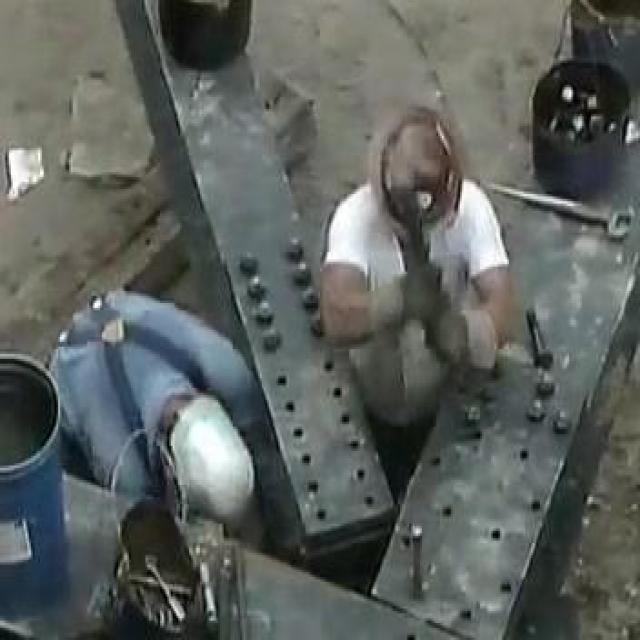Safety-Helmet: (365, 99, 468, 222)
